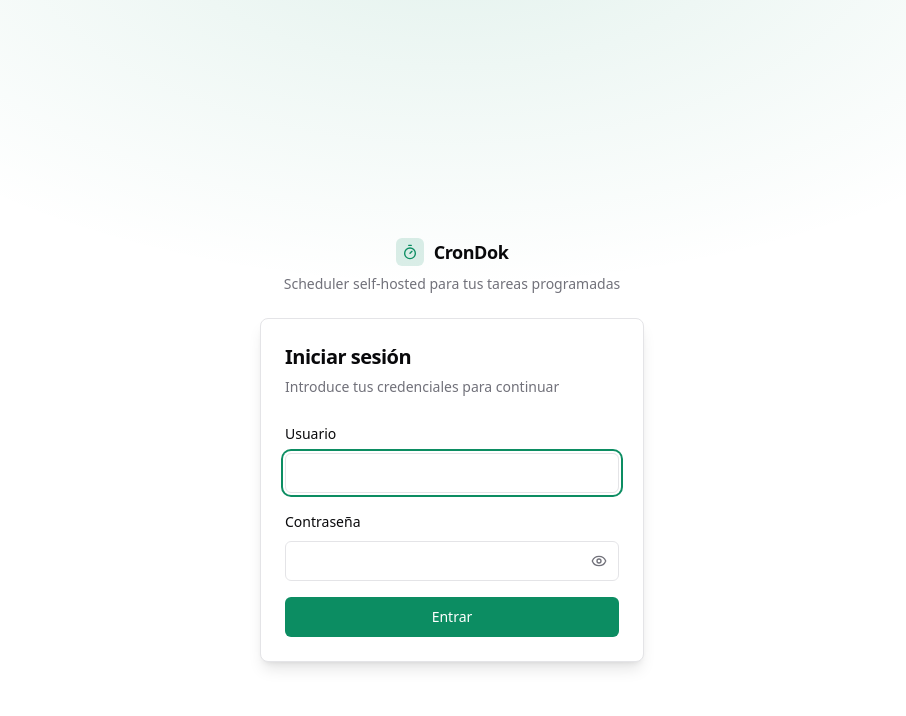
Test case: LoginPage › valida los campos y no envía si están vacíos
Click the button "Entrar": (452, 617) [285,597,619,637]
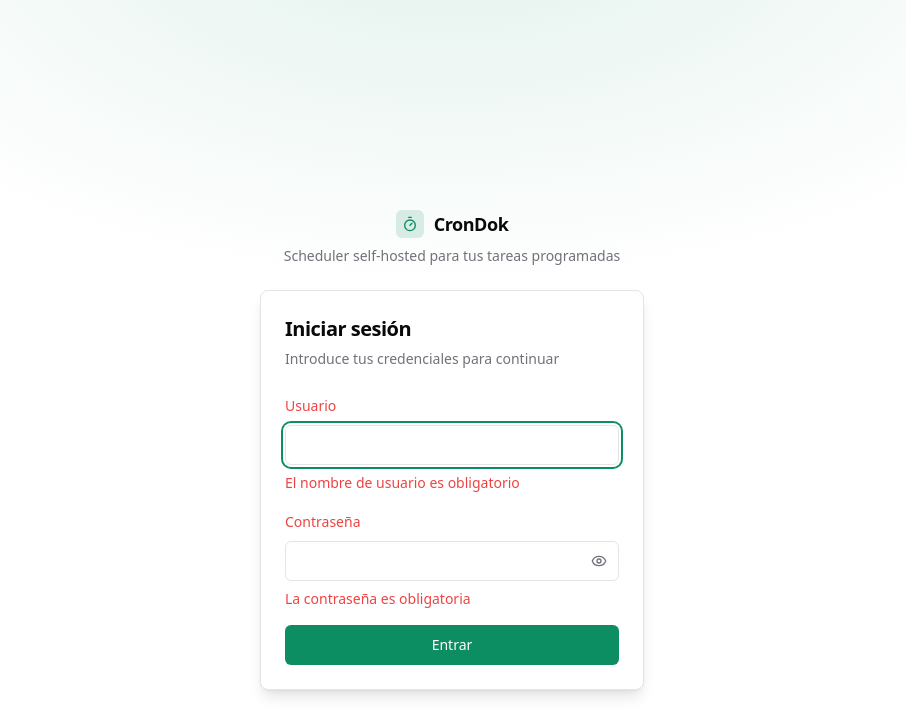
Now the text "El nombre de usuario es obligatorio" is shown, box [285,473,520,492]
Now the text "La contraseña es obligatoria" is shown, box [285,589,471,608]
